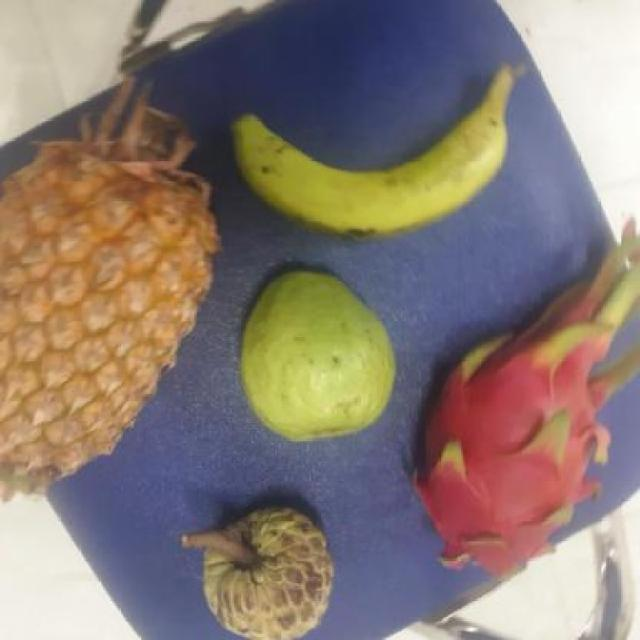banana: (243, 90, 526, 236)
dragon fruit: (408, 338, 602, 568)
guava: (238, 270, 407, 438)
sugar apple: (194, 501, 343, 639)
